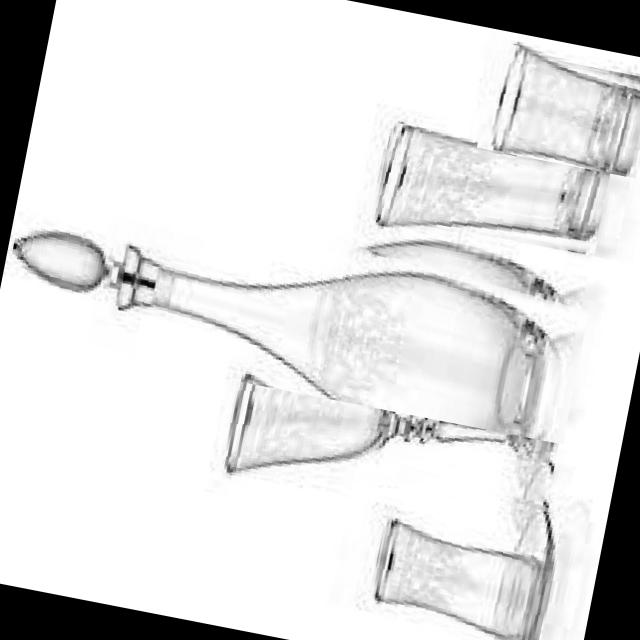Glass: (0, 153, 598, 443), (216, 346, 566, 535), (358, 462, 567, 640), (367, 120, 612, 268), (477, 39, 640, 177)
